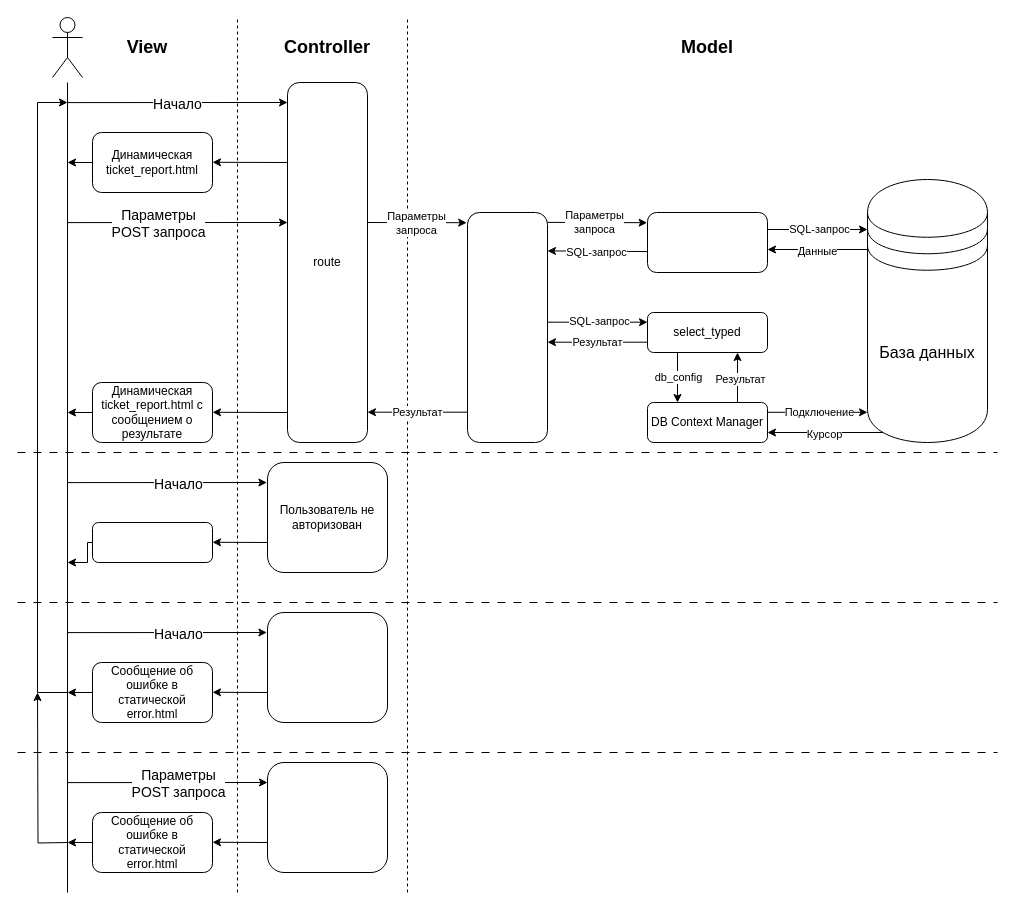
The diagram is 1016 pixels wide and 911 high, and some of its shapes have lost their labels. The centre of each missing label's shape, as x and y in pixels:
model_route: the point at 507,327
SQL Provider: the point at 707,242
Данные отсутствуют: the point at 327,817
Переход на контроллер auth: the point at 152,542
У пользователя недостаточно прав: the point at 327,667
